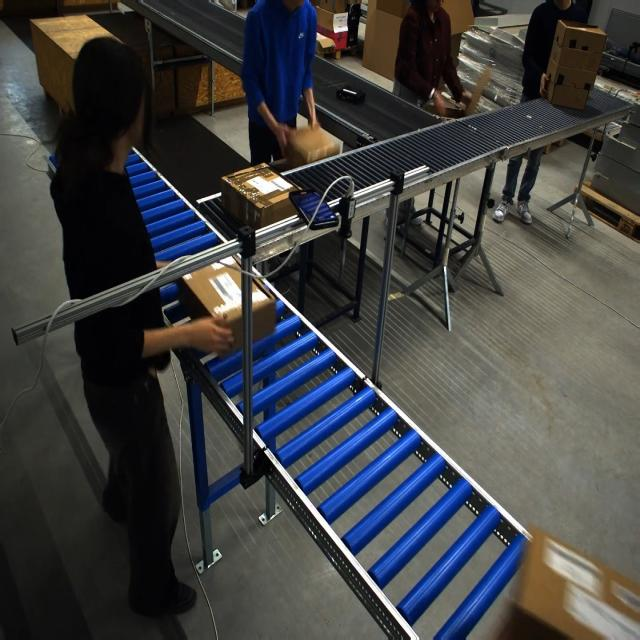box: (177, 258, 275, 354), (544, 20, 607, 109), (221, 163, 301, 230), (284, 123, 338, 168)
product: (336, 85, 365, 104), (355, 132, 377, 149)
